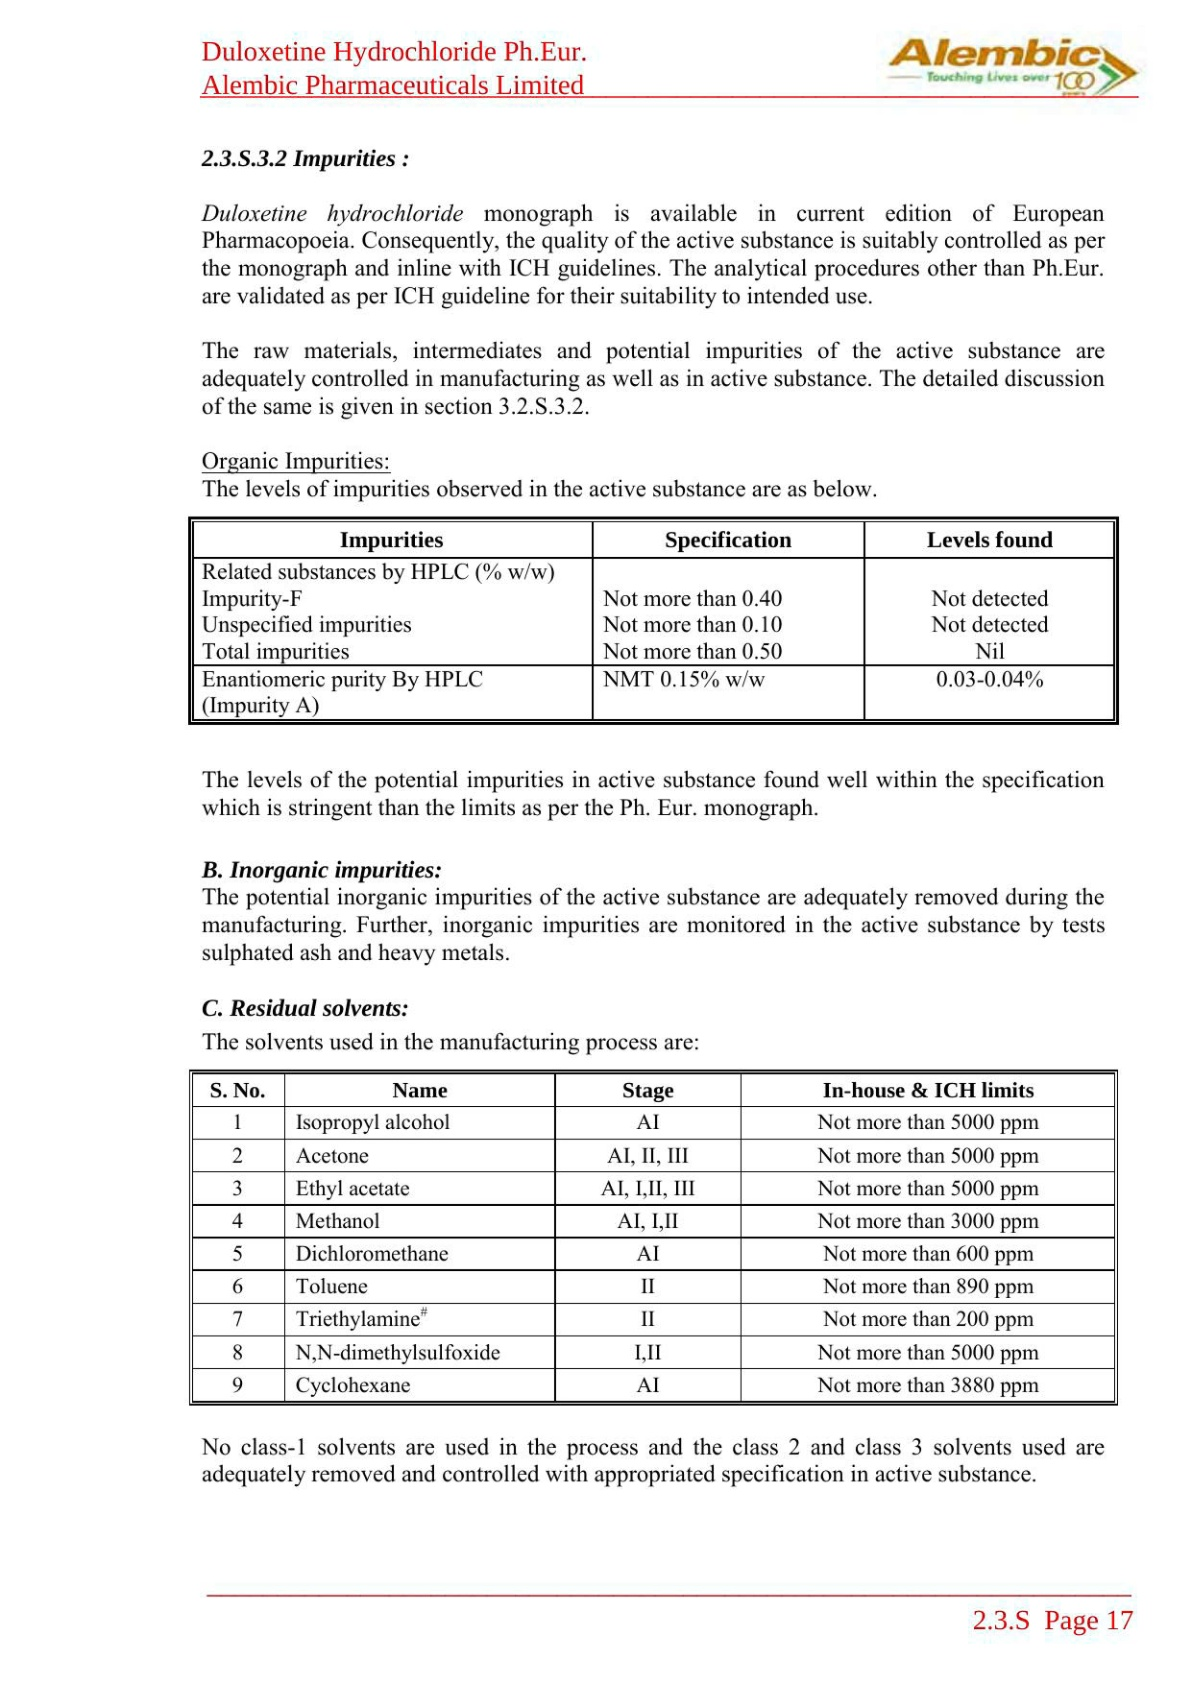full_lined: (188, 1068, 1118, 1405), (187, 514, 1118, 725)
